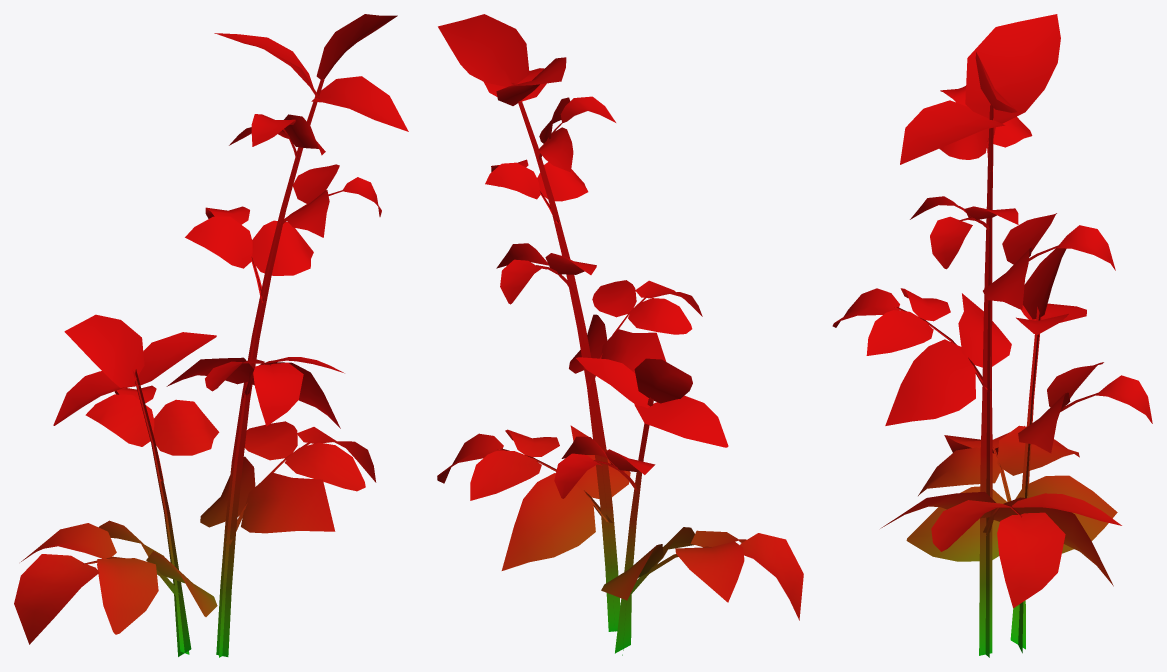
Rendered from Raspberry_LOD1_Var11_wf0oefeja.fbx.
3 renders of one model, left to right at view 1: azimuth 30°, elevation 25°; view 2: azimuth 150°, elevation 25°; view 3: azimuth 270°, elevation 25°, orthographic. The views are drawn at different scales.
Visible parts, largest first — view 1: _qt3s_Var11_LOD1; view 2: _qt3s_Var11_LOD1; view 3: _qt3s_Var11_LOD1.
Boxes of the visible parts, bbox=[...] form: _qt3s_Var11_LOD1: bbox=[14, 14, 408, 657]; _qt3s_Var11_LOD1: bbox=[437, 14, 803, 655]; _qt3s_Var11_LOD1: bbox=[832, 14, 1152, 657].
Bounding box in the file's own units: 20.72 × 32.53 × 13.87.
